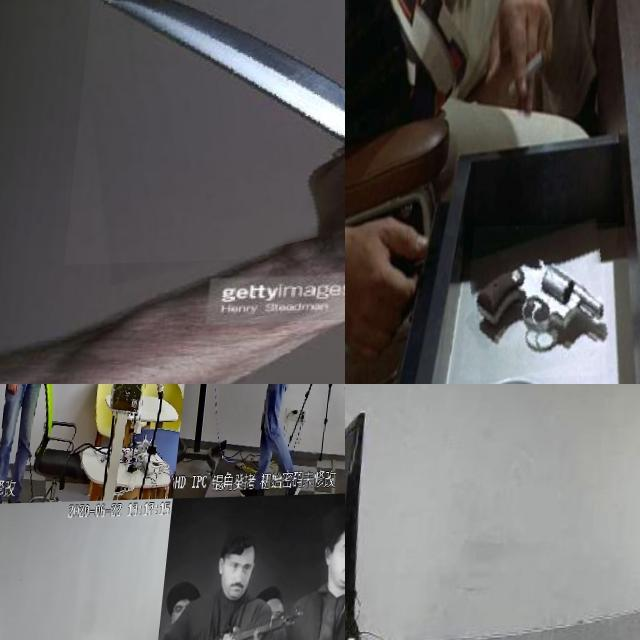-: (72, 0, 345, 266)
gun-knife-thesis - v11 Yolov5 augmented: (471, 225, 627, 381), (184, 607, 311, 640), (63, 384, 86, 405), (235, 384, 258, 400)
